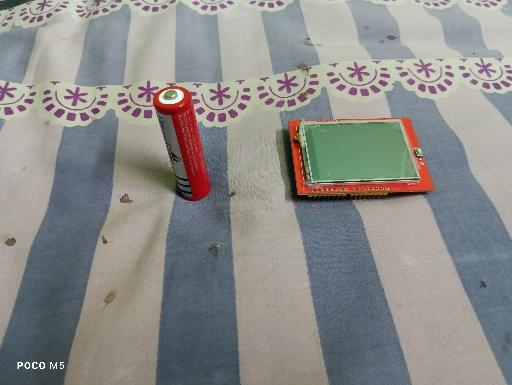Battery: (153, 86, 211, 201)
Display: (288, 117, 435, 201)
